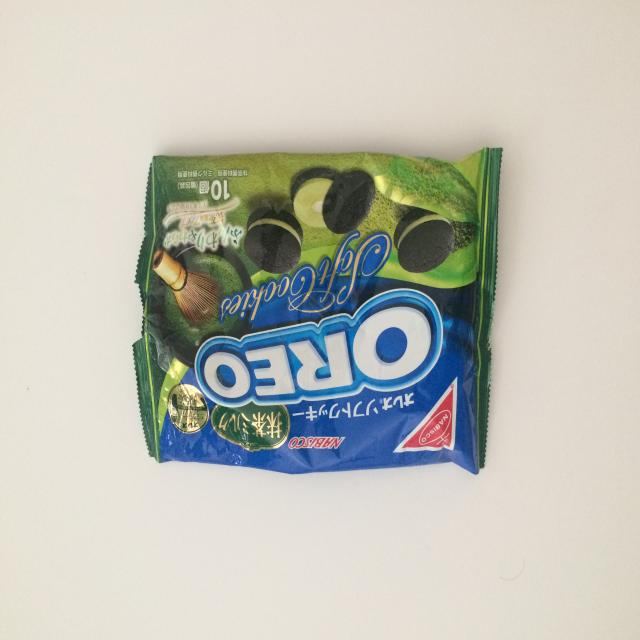plastic: (132, 146, 503, 475)
